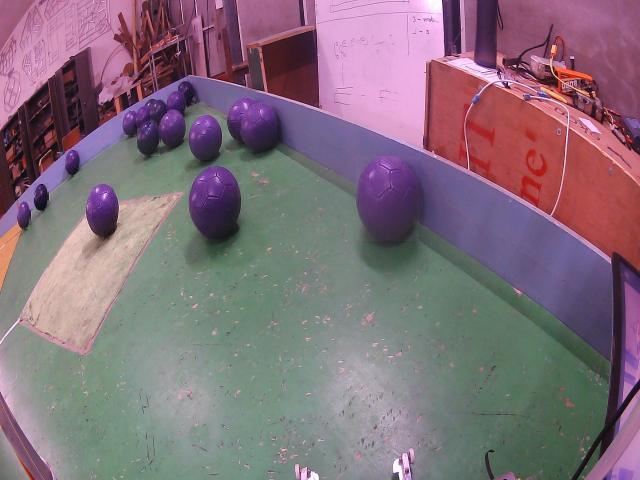jambhalya: (356, 156, 419, 241), (189, 166, 241, 239), (241, 103, 279, 152), (86, 185, 119, 237), (189, 115, 221, 160), (227, 98, 254, 142), (160, 110, 186, 148), (167, 92, 187, 114), (65, 150, 80, 176), (17, 202, 30, 229), (135, 105, 150, 128), (123, 111, 136, 136)
kaalyya: (137, 120, 160, 156), (150, 100, 167, 125), (35, 184, 48, 210), (179, 82, 194, 104), (146, 99, 156, 108)
